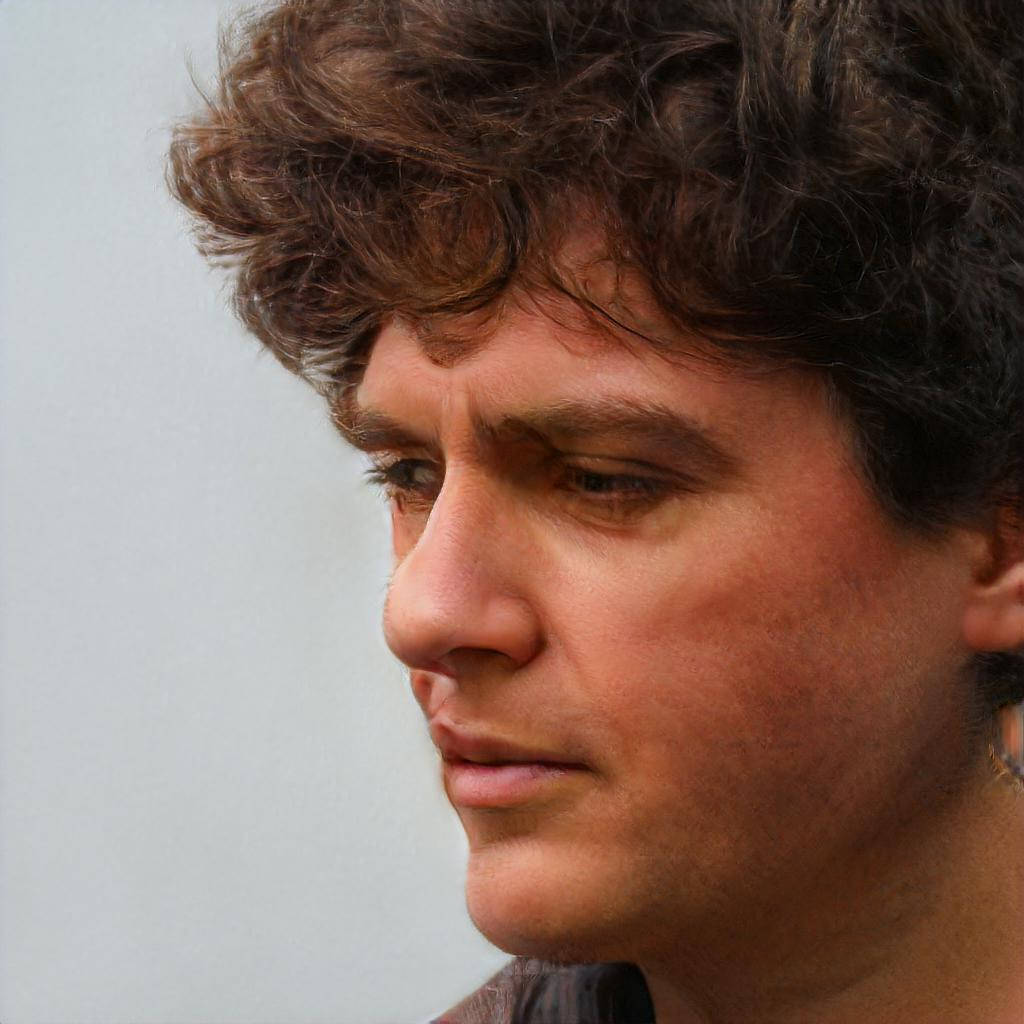face: (354, 191, 965, 965)
